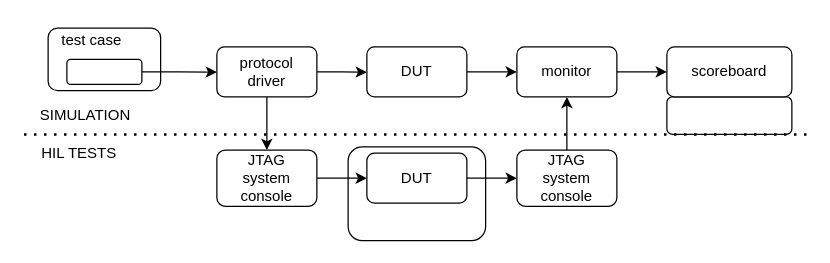
Image size: 830x263. Some labels were removed from this diagram. The box of each missing label's shape, as (x1, y1, x2, y2) in pixels:
FPGA HW: (347, 146, 486, 241)
perfomance metrics: (666, 96, 792, 134)
test data: (66, 58, 142, 84)
